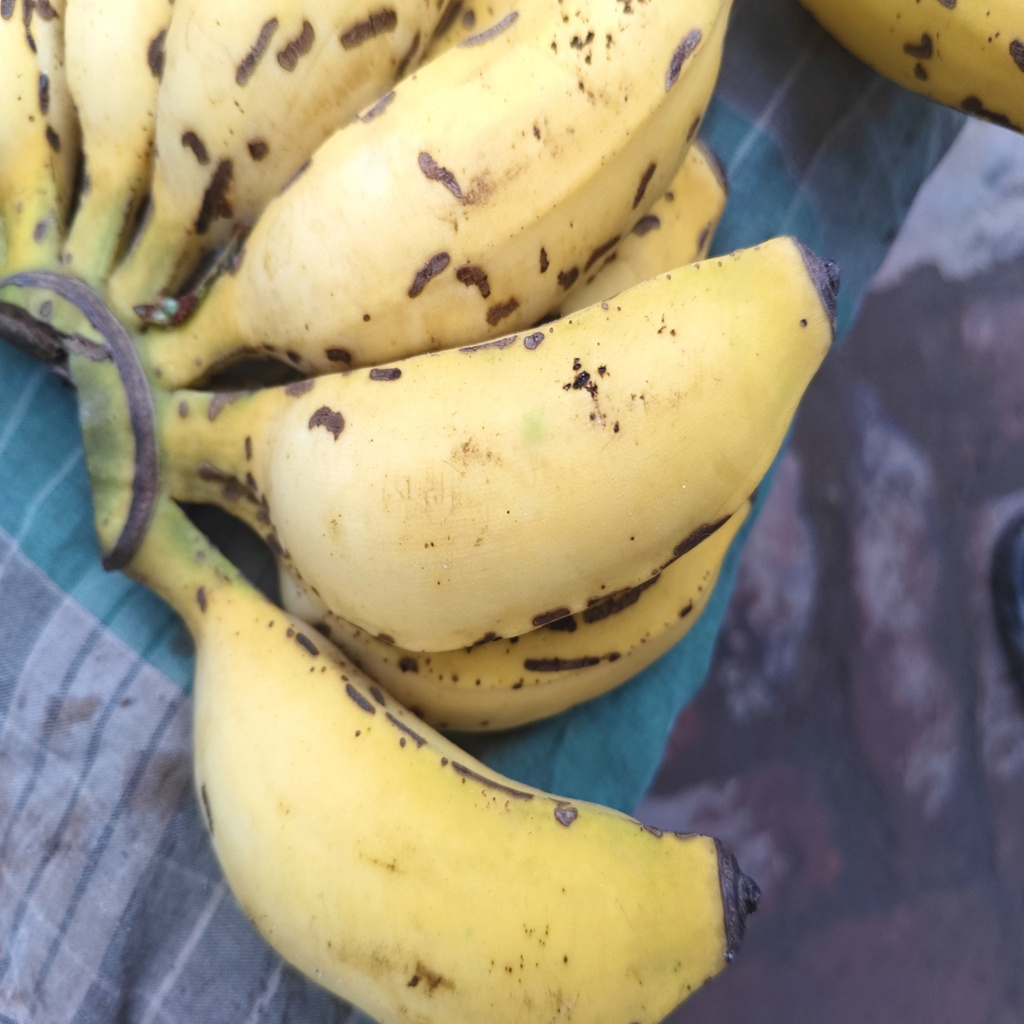unhealthy: (192, 552, 748, 1024), (286, 235, 840, 655), (220, 1, 729, 359)
